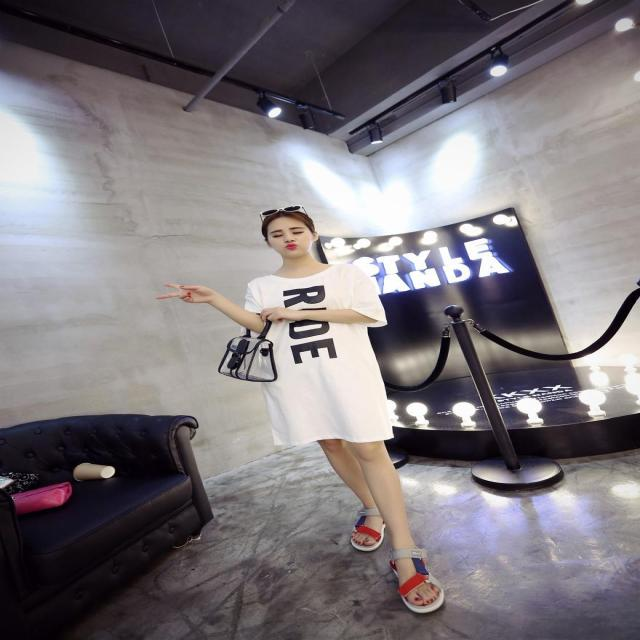short-sleeve-dress: (244, 274, 410, 467)
